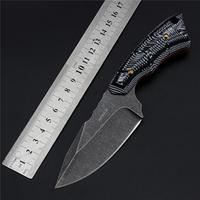knife: (50, 17, 189, 193)
